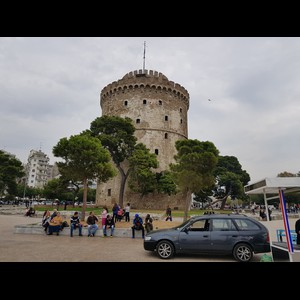White Tower: (92, 41, 193, 210)
